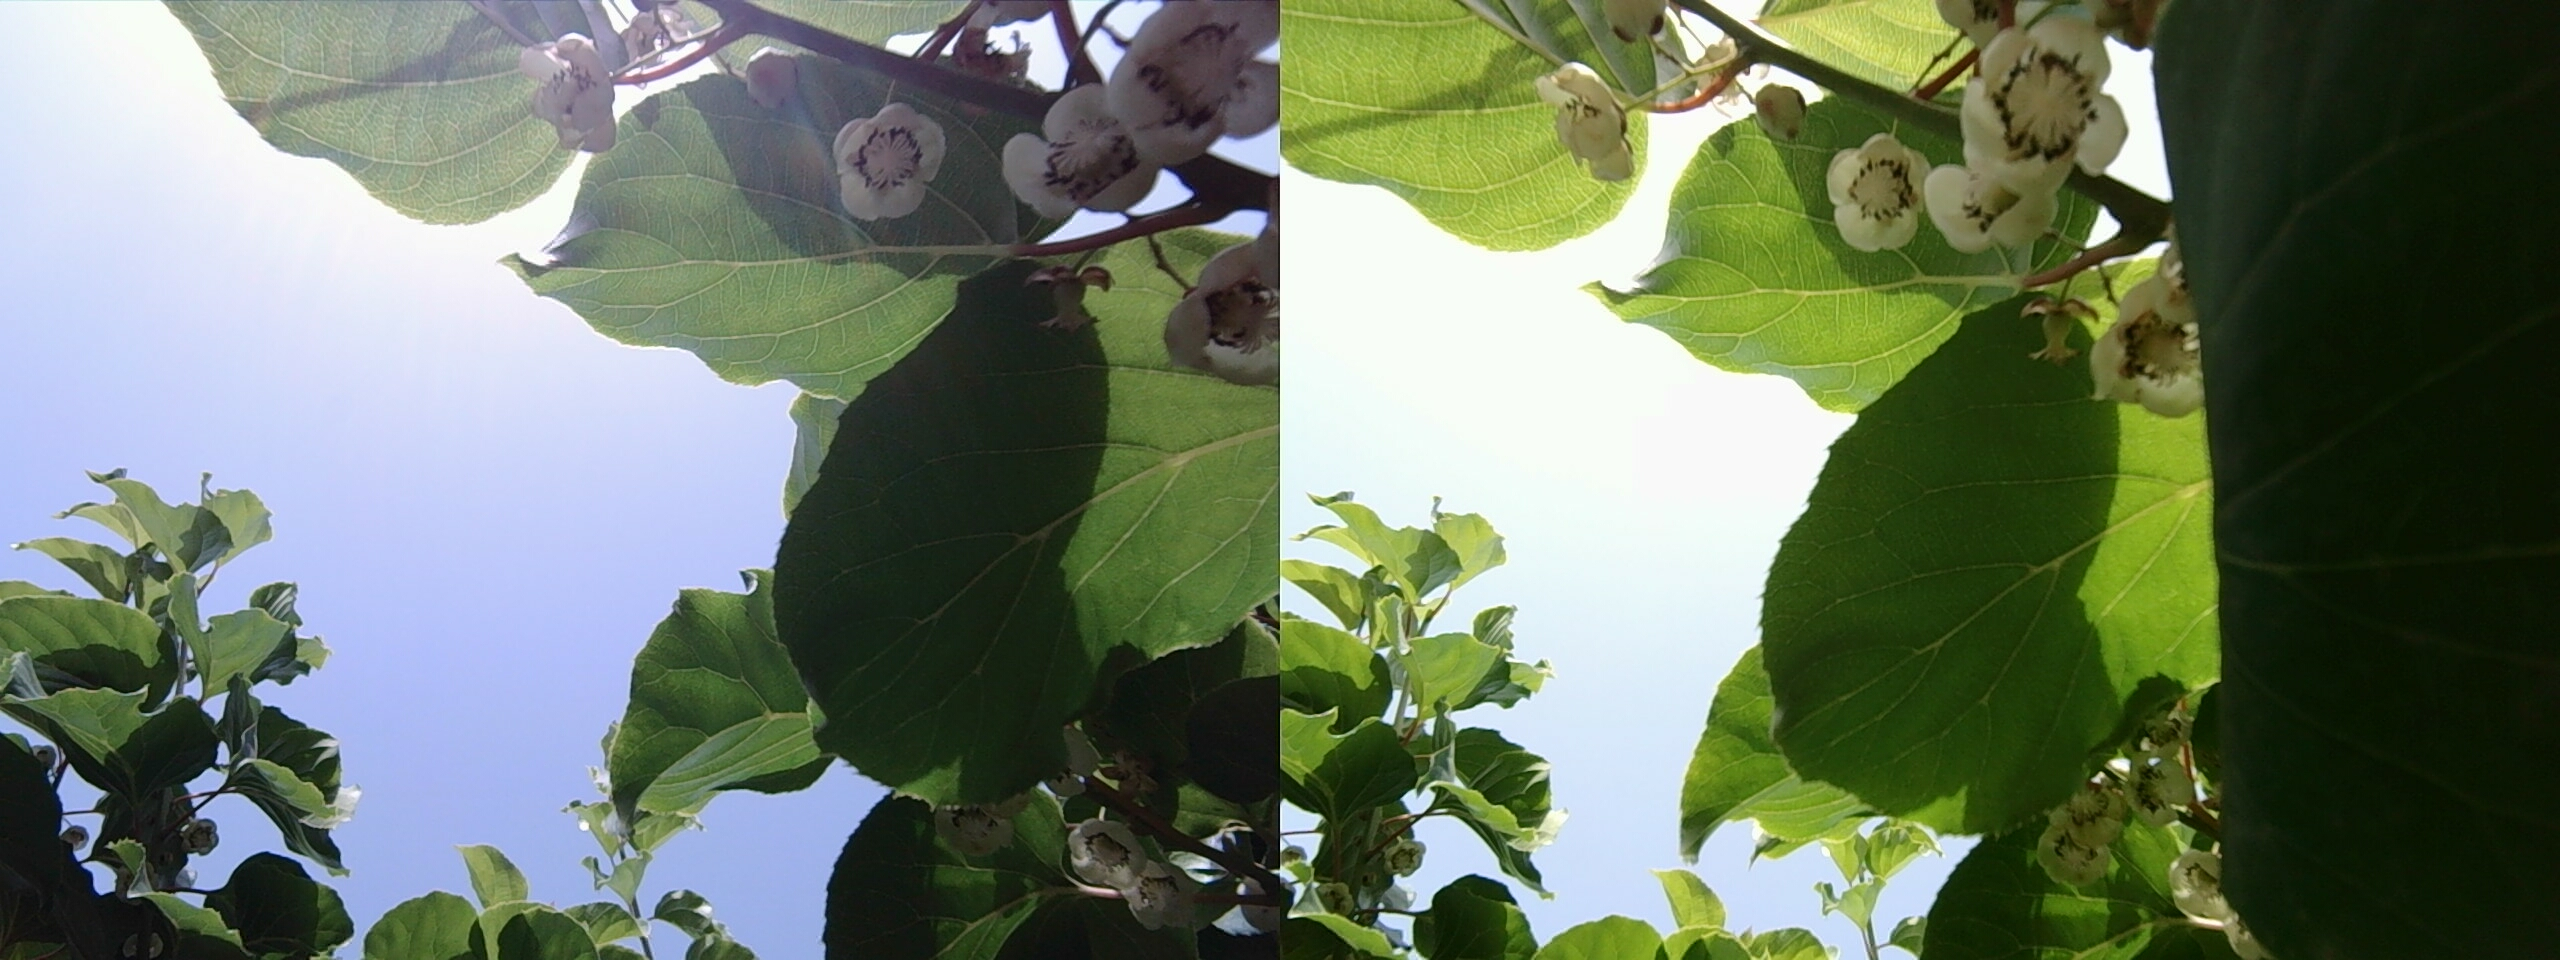flower: (1597, 374, 1853, 640), (616, 359, 856, 625), (1848, 421, 2000, 563)
